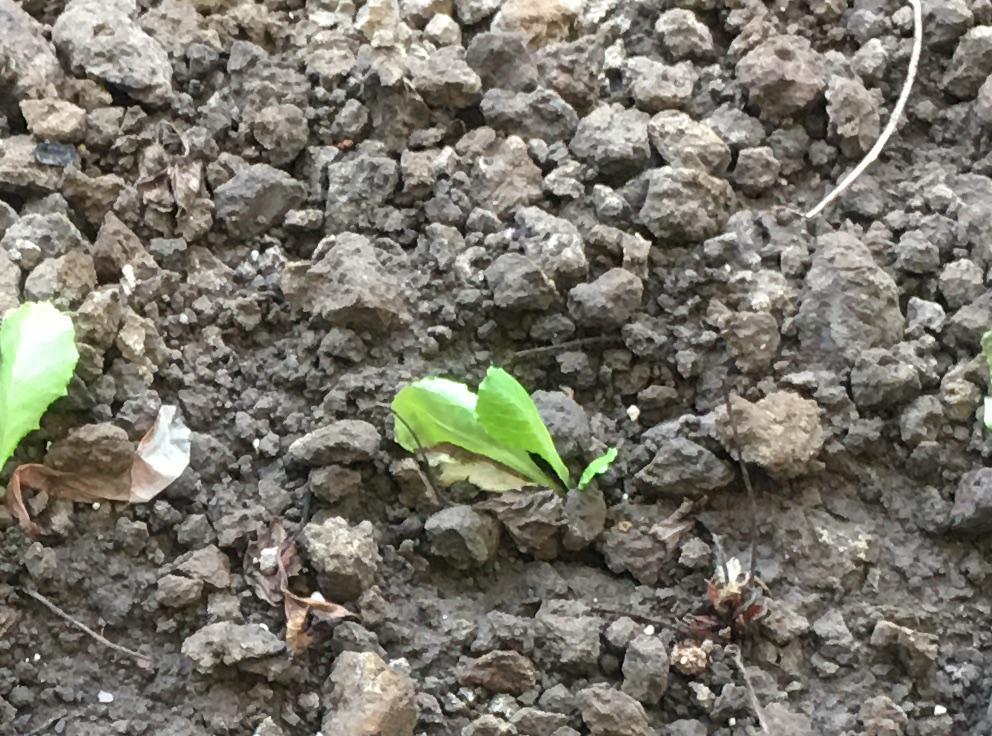block: (803, 233, 915, 402), (49, 1, 178, 107), (708, 390, 823, 479), (309, 233, 400, 329), (319, 650, 420, 736), (642, 160, 742, 246), (738, 34, 829, 118)
